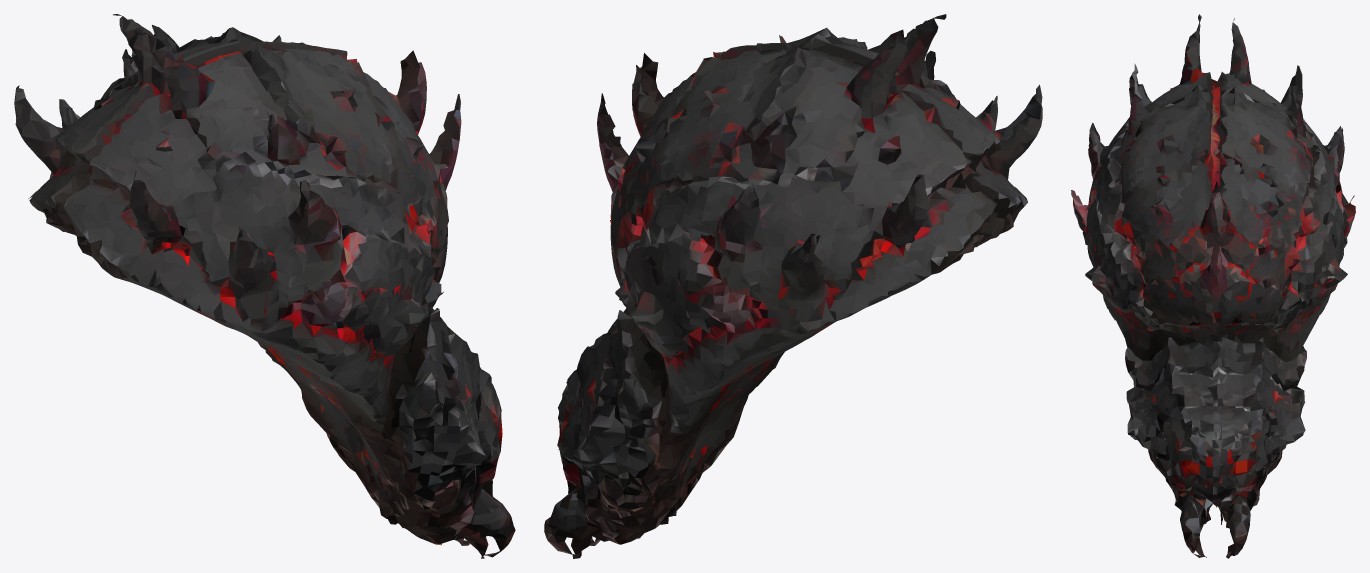
The model's file is big+Spider_low.obj.
The picture shows the model from 3 angles, left to right: view 1: azimuth 30°, elevation 25°; view 2: azimuth 150°, elevation 25°; view 3: azimuth 270°, elevation 25°; orthographic projection. The views are drawn at different scales.
Size of the model in its own units: 0.7378 by 0.9892 by 0.5992.
Materials: 1 (1 with a texture image).
